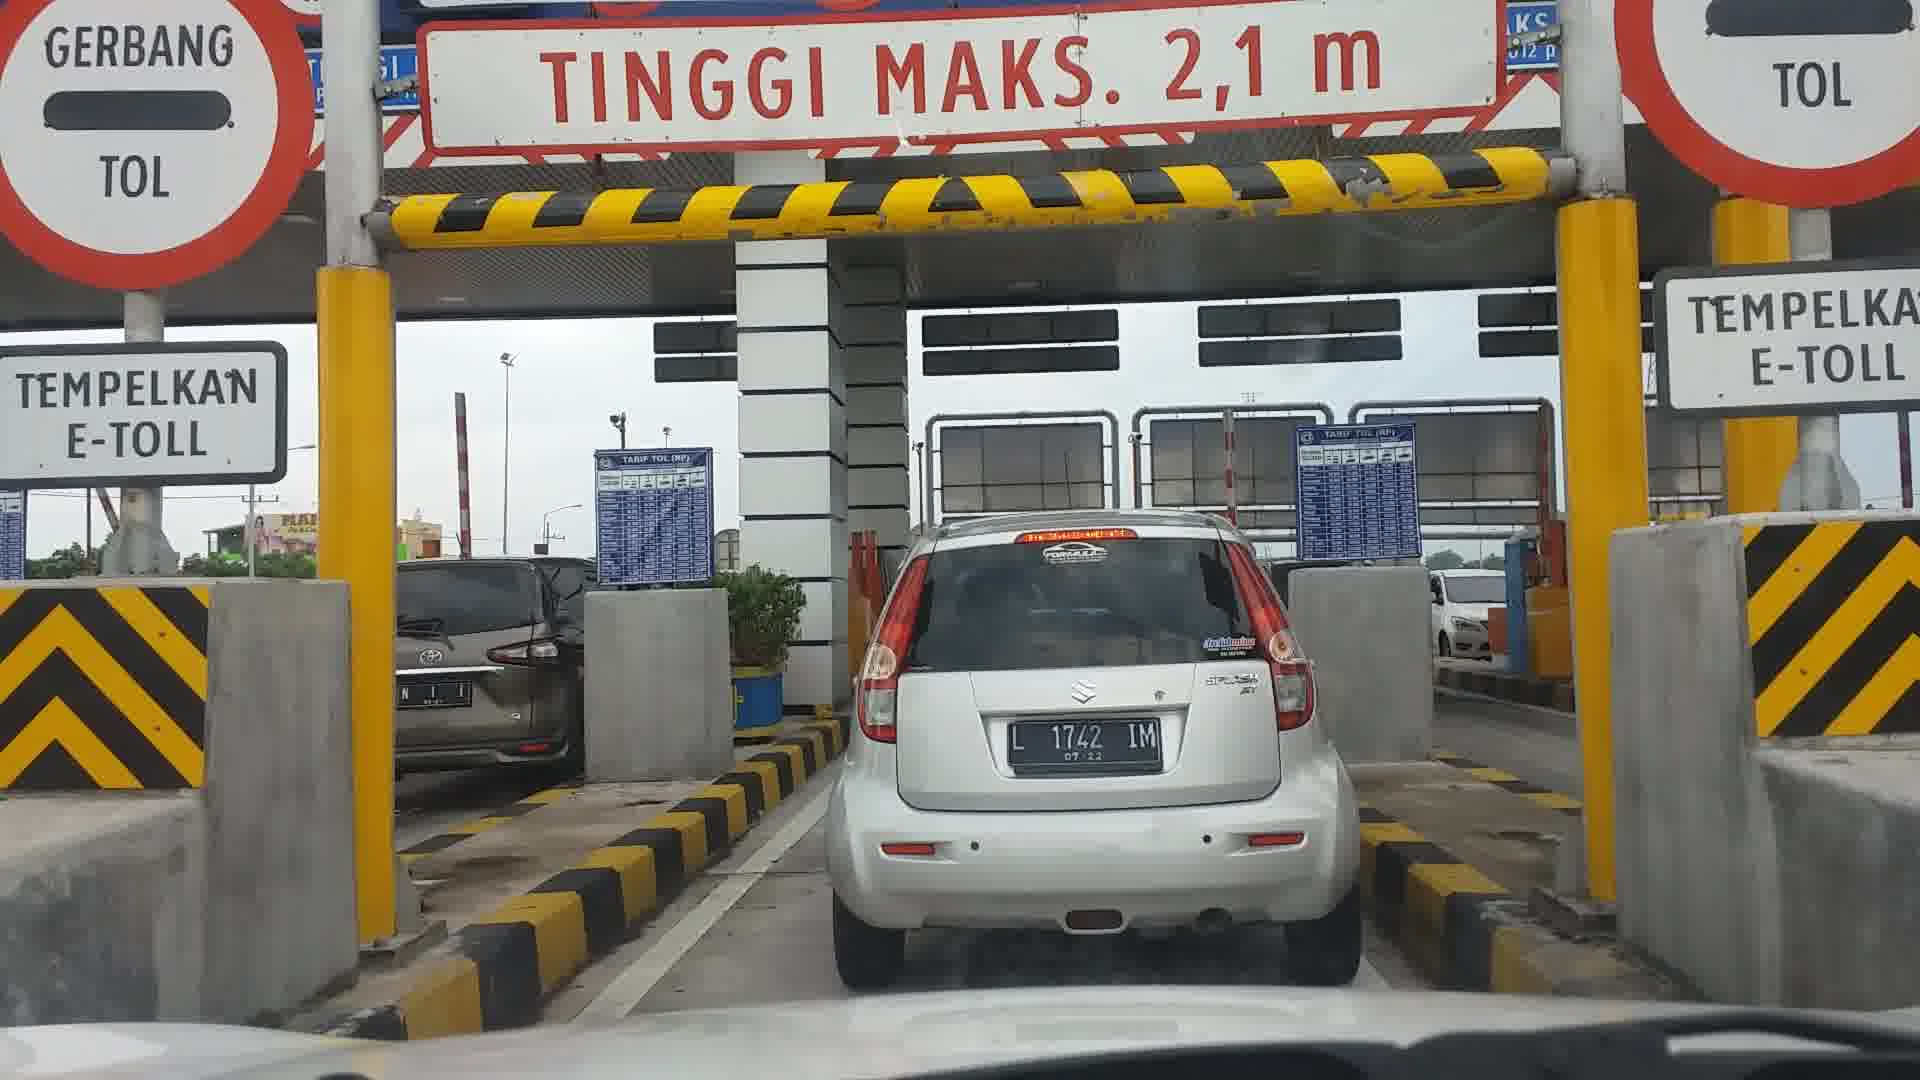plate_positive: (1007, 717, 1162, 777)
